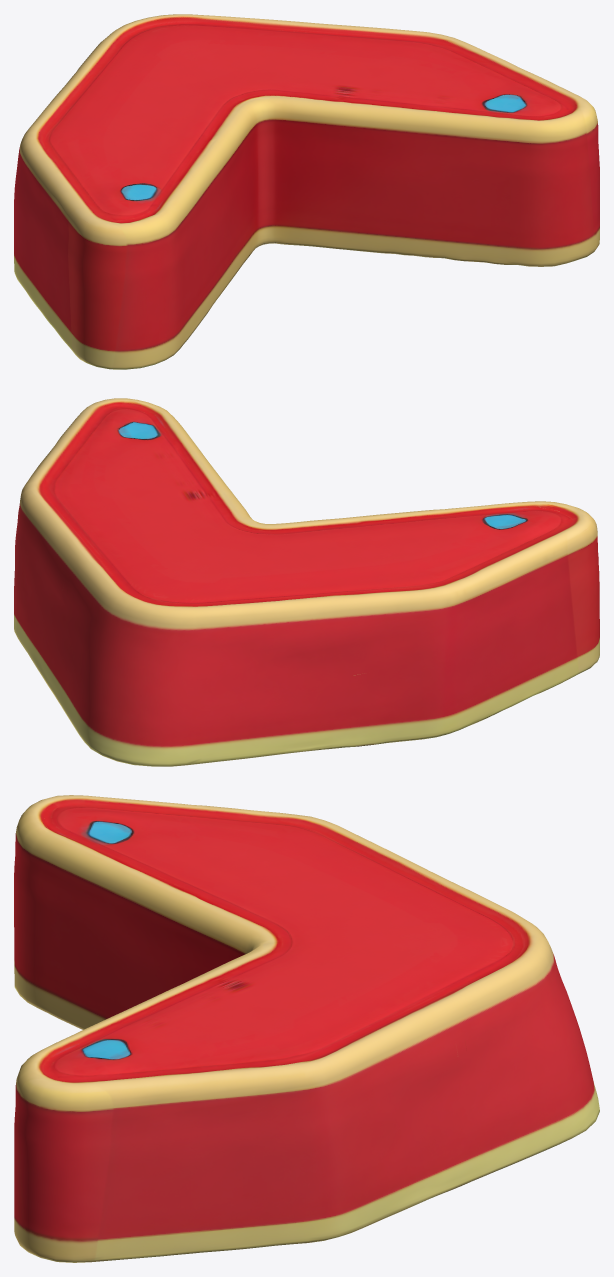
Rendered from Speed_texture.fbx.
3 renders of one model, top to bottom at view 1: azimuth 30°, elevation 25°; view 2: azimuth 150°, elevation 25°; view 3: azimuth 270°, elevation 25°, orthographic. The views are drawn at different scales.
Parts seen in each view (by area): view 1: Mesh0; view 2: Mesh0; view 3: Mesh0.
Boxes of the visible parts, x1,y1,x2,y2 form: Mesh0: (14,14,599,369); Mesh0: (14,398,599,766); Mesh0: (14,795,599,1262).
Size of the model in its own units: 192 by 50.55 by 156.
Materials: 1 (1 with a texture image).
